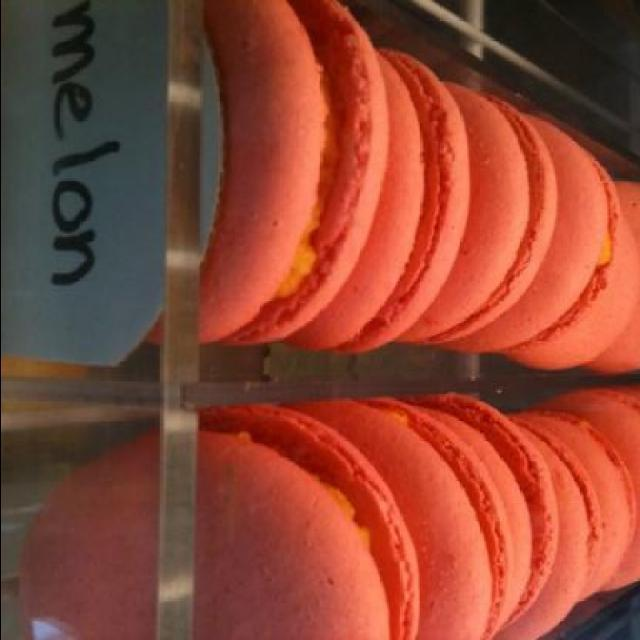Macaron: (160, 6, 637, 638)
